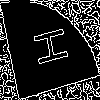H: (24, 25, 69, 70)
